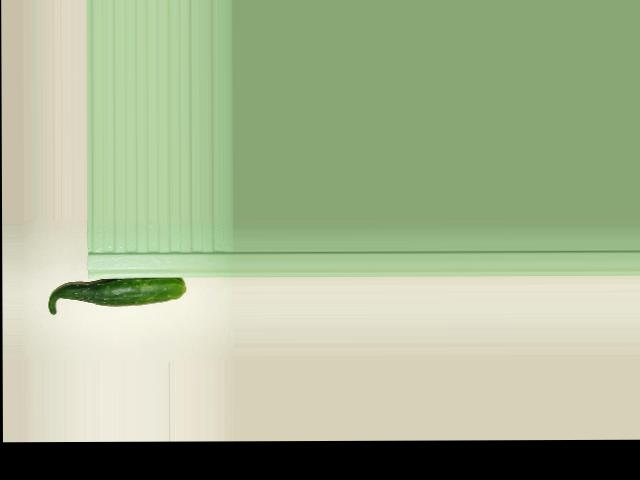cucumber: (47, 277, 185, 314)
